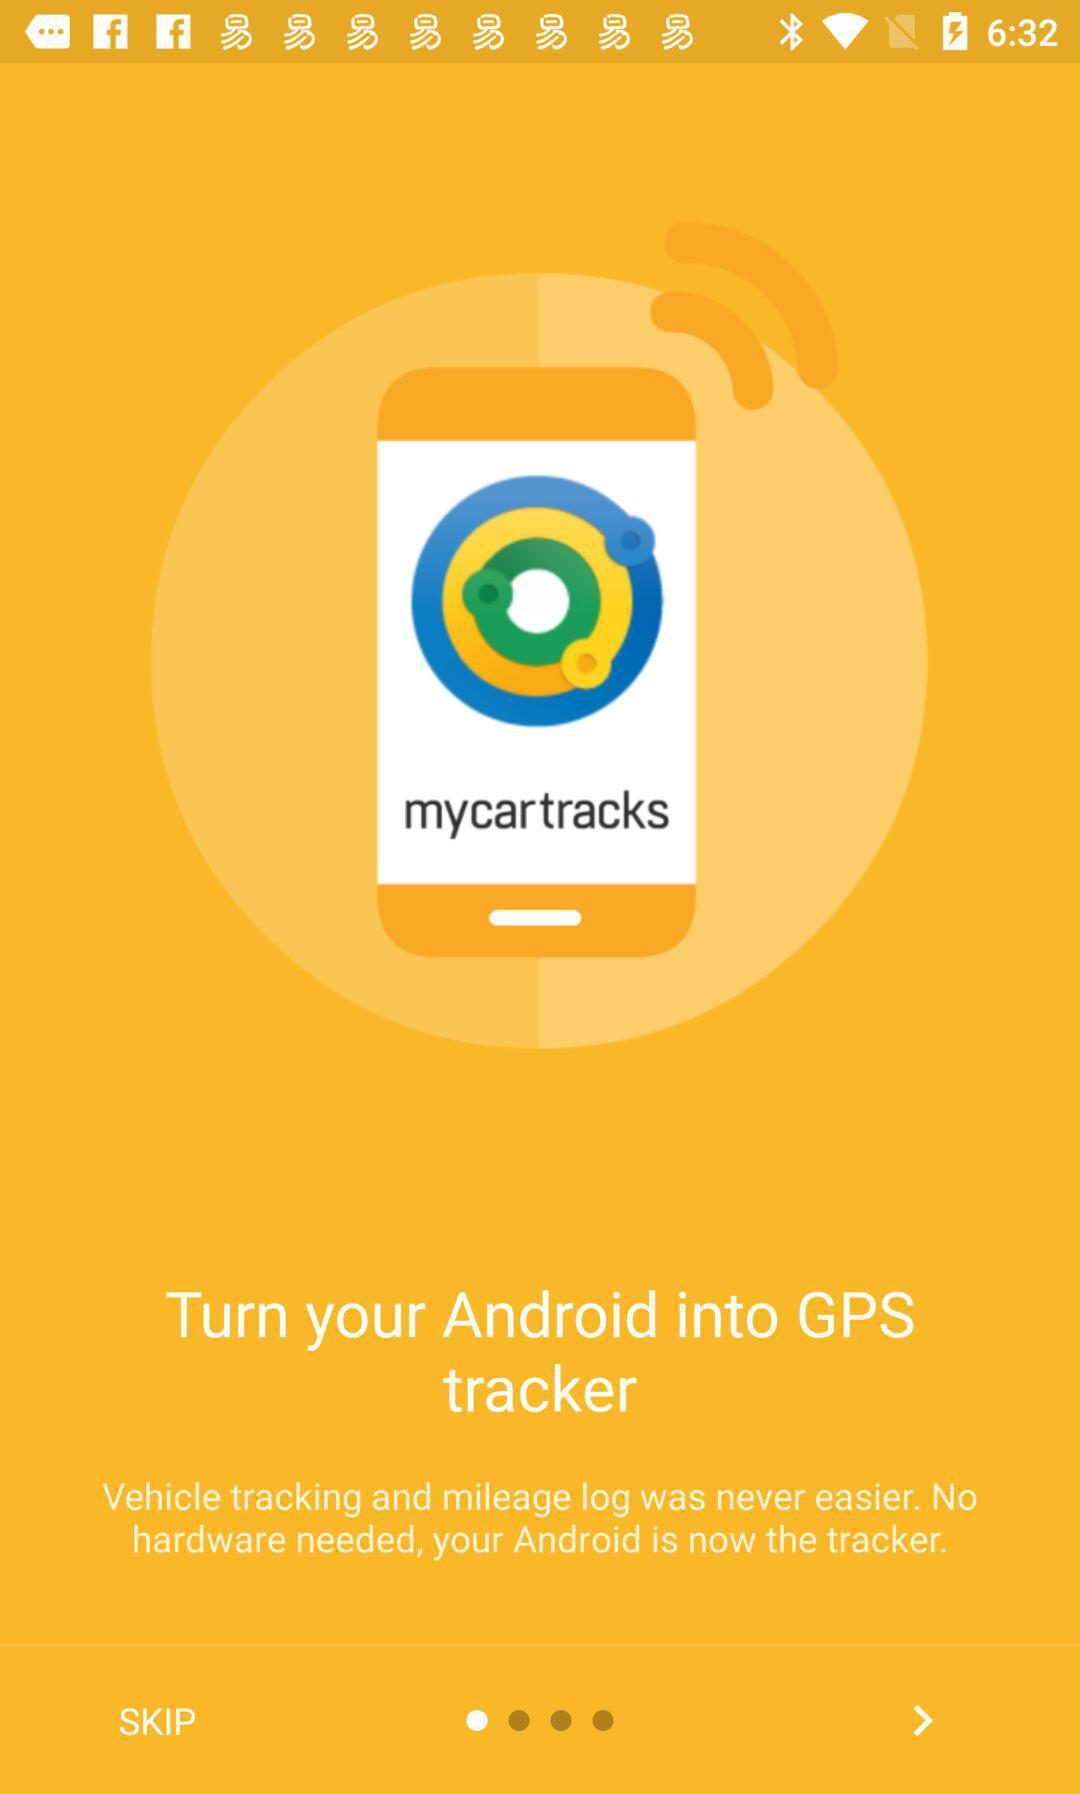Icon: (912, 1704, 935, 1738)
Image: (146, 217, 931, 1053)
PageIndicator: (465, 1709, 615, 1732)
Text: (164, 1287, 917, 1415), (102, 1480, 980, 1559), (119, 1706, 199, 1738)
UpperTaskBar: (1, 1, 1080, 64)
